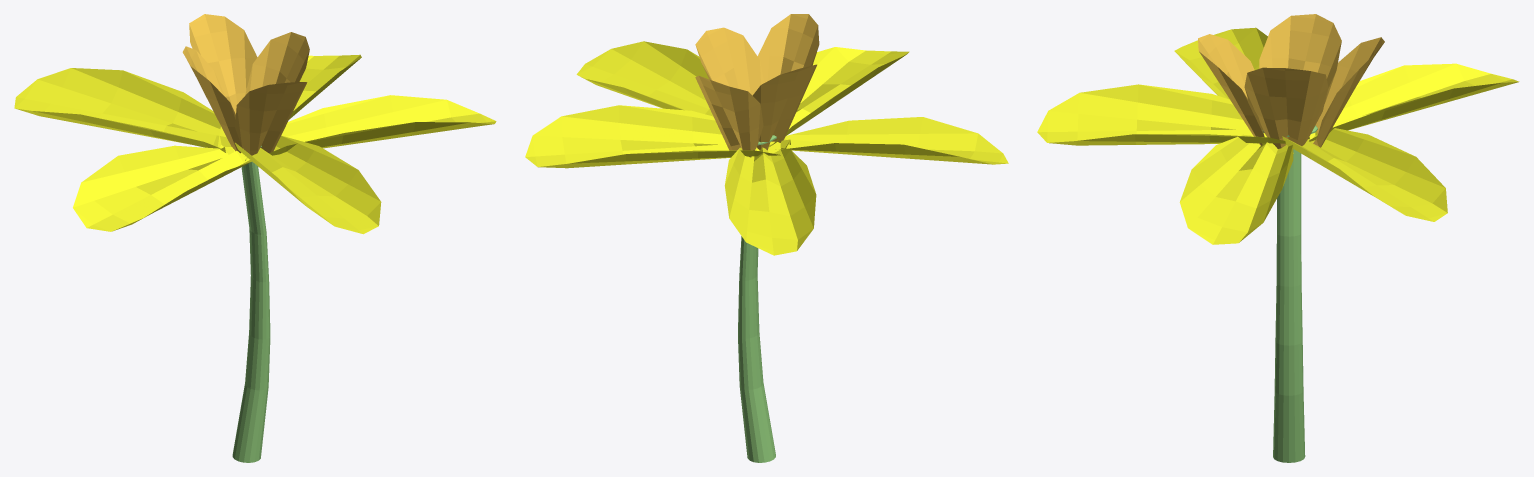
Rendered from Narcis.fbx.
The picture shows the model from 3 angles, left to right: view 1: azimuth 30°, elevation 25°; view 2: azimuth 150°, elevation 25°; view 3: azimuth 270°, elevation 25°; orthographic projection. The views are drawn at different scales.
Parts seen in each view (by area): view 1: Circle.006, Circle.003, Circle.001; view 2: Circle.006, Circle.003, Circle.001; view 3: Circle.006, Circle.003, Circle.001.
Boxes of the visible parts, x1,y1,x2,y2 form: Circle.006: [14, 54, 496, 234]; Circle.003: [182, 14, 309, 155]; Circle.001: [232, 146, 270, 462]; Circle.006: [525, 41, 1008, 255]; Circle.003: [695, 14, 819, 157]; Circle.001: [738, 135, 776, 462]; Circle.006: [1037, 27, 1519, 244]; Circle.003: [1198, 14, 1384, 148]; Circle.001: [1262, 125, 1317, 462].
Bounding box in the file's own units: 10.27 × 9.61 × 10.07.
